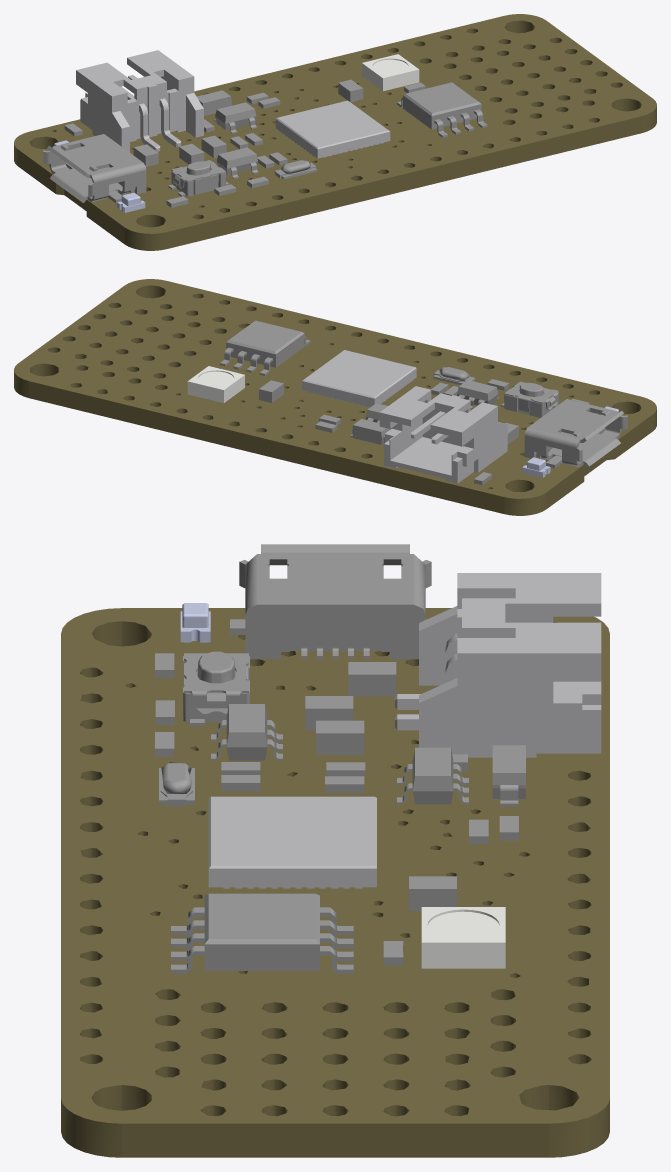
The model's file is ada-3403.glb.
3 views of the same model, one above another, from view 1: azimuth 30°, elevation 25°; view 2: azimuth 150°, elevation 25°; view 3: azimuth 270°, elevation 25° (orthographic). The views are drawn at different scales.
Parts seen in each view (by area): view 1: 0.16666666666666666_0.16666666666666666_0.08333333333333333_, 0.3333333333333333_0.3333333333333333_0.3333333333333333_0, 0.5833333333333334_0.5833333333333334_0.5833333333333334_0.8, 0.9166666666666666_0.9166666666666666_0.9166666666666666_0.8, 0.5833333333333334_0.6666666666666666_0.8333333333333334_0; view 2: 0.16666666666666666_0.16666666666666666_0.08333333333333333_, 0.3333333333333333_0.3333333333333333_0.3333333333333333_0, 0.5833333333333334_0.5833333333333334_0.5833333333333334_0.8, 0.9166666666666666_0.9166666666666666_0.9166666666666666_0.8, 0.5833333333333334_0.6666666666666666_0.8333333333333334_0; view 3: 0.16666666666666666_0.16666666666666666_0.08333333333333333_, 0.3333333333333333_0.3333333333333333_0.3333333333333333_0, 0.5833333333333334_0.5833333333333334_0.5833333333333334_0.8, 0.9166666666666666_0.9166666666666666_0.9166666666666666_0.8, 0.5833333333333334_0.6666666666666666_0.8333333333333334_0.
Boxes of the visible parts, bbox=[...] form: 0.16666666666666666_0.16666666666666666_0.08333333333333333_: bbox=[14, 14, 656, 250]; 0.3333333333333333_0.3333333333333333_0.3333333333333333_0: bbox=[43, 79, 487, 207]; 0.5833333333333334_0.5833333333333334_0.5833333333333334_0.8: bbox=[76, 50, 390, 158]; 0.9166666666666666_0.9166666666666666_0.9166666666666666_0.8: bbox=[362, 54, 419, 91]; 0.5833333333333334_0.6666666666666666_0.8333333333333334_0: bbox=[54, 140, 145, 212]; 0.16666666666666666_0.16666666666666666_0.08333333333333333_: bbox=[14, 279, 656, 515]; 0.3333333333333333_0.3333333333333333_0.3333333333333333_0: bbox=[220, 320, 627, 485]; 0.5833333333333334_0.5833333333333334_0.5833333333333334_0.8: bbox=[302, 350, 507, 483]; 0.9166666666666666_0.9166666666666666_0.9166666666666666_0.8: bbox=[187, 366, 244, 402]; 0.5833333333333334_0.6666666666666666_0.8333333333333334_0: bbox=[522, 406, 618, 477]; 0.16666666666666666_0.16666666666666666_0.08333333333333333_: bbox=[61, 608, 609, 1157]; 0.3333333333333333_0.3333333333333333_0.3333333333333333_0: bbox=[155, 544, 525, 973]; 0.5833333333333334_0.5833333333333334_0.5833333333333334_0.8: bbox=[208, 573, 601, 888]; 0.9166666666666666_0.9166666666666666_0.9166666666666666_0.8: bbox=[421, 907, 505, 968]; 0.5833333333333334_0.6666666666666666_0.8333333333333334_0: bbox=[180, 603, 210, 642].
Size of the model in its own units: 5.14 by 0.637 by 2.29.
